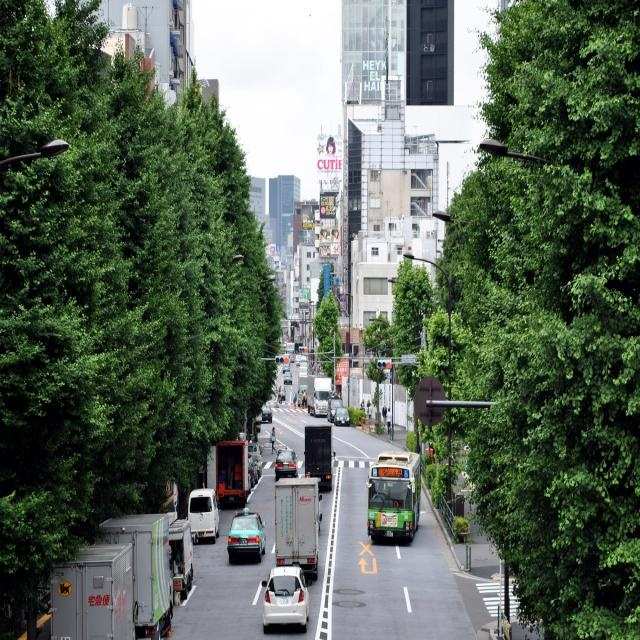Bus: (363, 449, 425, 546)
